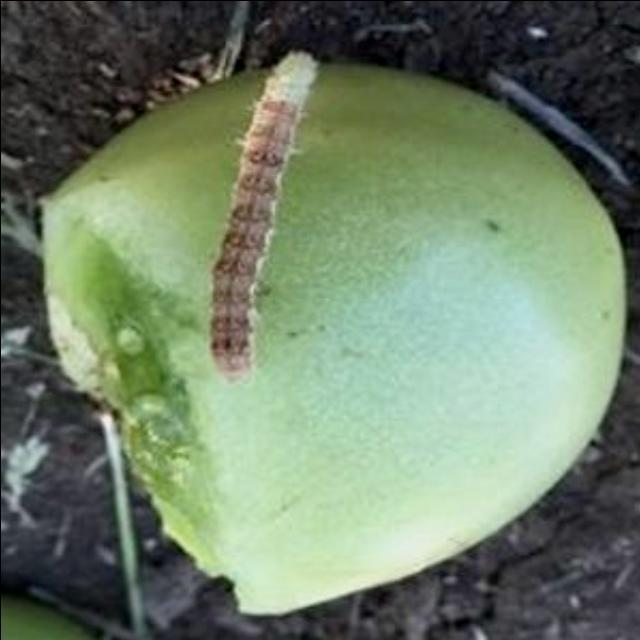Cotton bollworm: (192, 34, 322, 390)
